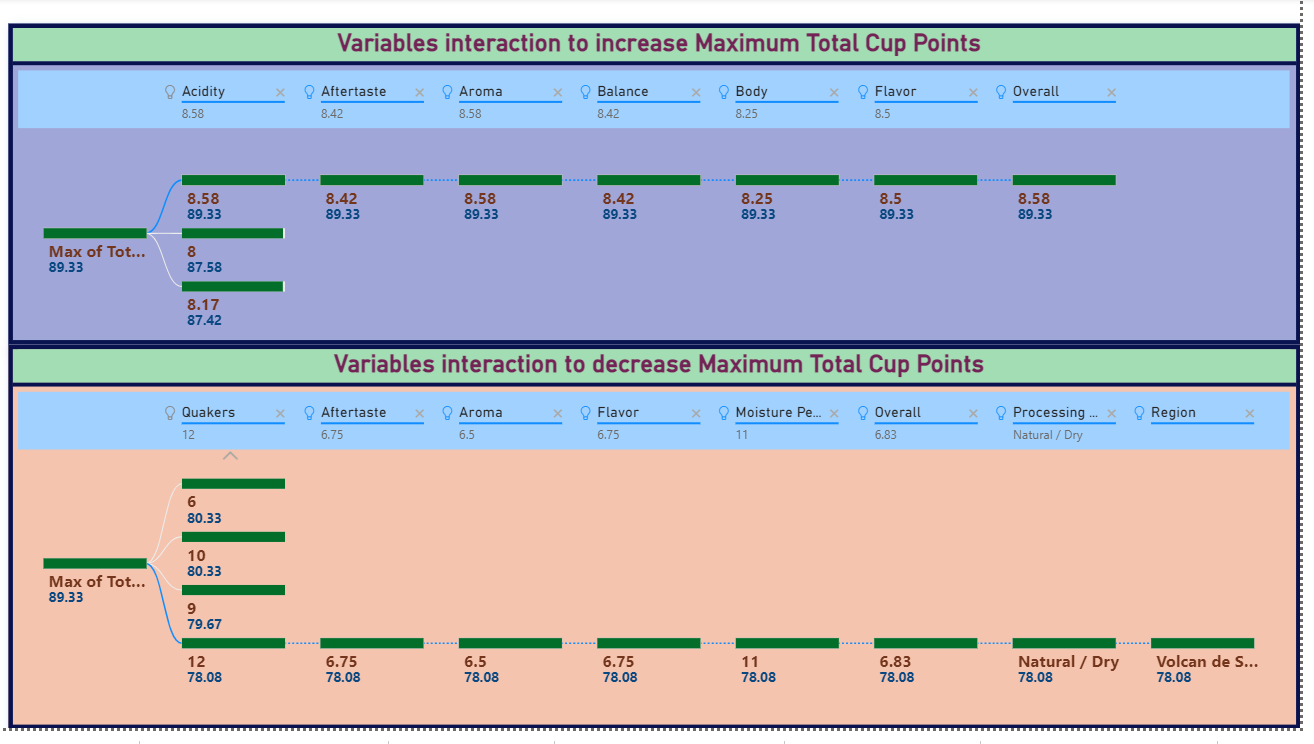

This screenshot's page, from the dashboard's own definition file:
{"tool":"powerbi","page":{"name":"Variables Interaction","canvas":[1280,720],"ordinal":5},"visuals":[{"type":"decompositionTreeVisual","title":"Variables interaction to increase Maximum Total Cup Points","fields":{"Analyze":["Max(df_arabica_clean.Total Cup Points)"],"ExplainBy":["df_arabica_clean.Acidity","df_arabica_clean.Aftertaste","df_arabica_clean.Aroma","df_arabica_clean.Balance","df_arabica_clean.Body","df_arabica_clean.Flavor","df_arabica_clean.Overall"]},"box":[8.6,25.8,1271.7,316.2],"z":0},{"type":"decompositionTreeVisual","title":"Variables interaction to decrease Maximum Total Cup Points","fields":{"Analyze":["Max(df_arabica_clean.Total Cup Points)"],"ExplainBy":["df_arabica_clean.Quakers","df_arabica_clean.Aftertaste","df_arabica_clean.Aroma","df_arabica_clean.Flavor","df_arabica_clean.Moisture Percentage","df_arabica_clean.Overall","df_arabica_clean.Processing Method","df_arabica_clean.Region"]},"box":[8.6,342,1271.7,378.1],"z":1000}]}

Visuals, with their boxes in screenshot pixels (x1, y1, x2, y2), scaled from the page's 1280x720 canvas onto the 1314x744 screenshot:
"Variables interaction to increase Maximum Total Cup Points" decompositionTreeVisual: l=9, t=27, r=1313, b=353
"Variables interaction to decrease Maximum Total Cup Points" decompositionTreeVisual: l=9, t=353, r=1313, b=743
